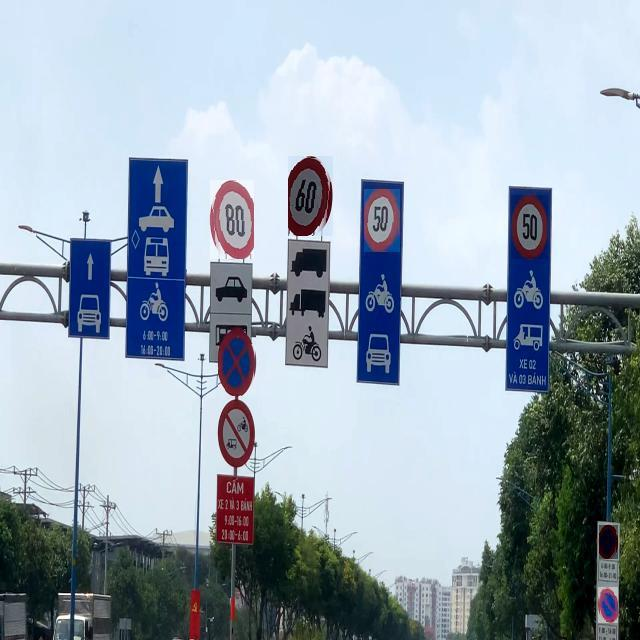P-127: (288, 156, 333, 236), (210, 180, 254, 259), (511, 195, 548, 259), (364, 189, 400, 252)
P-130: (219, 328, 257, 396), (599, 525, 618, 559)
P-131a: (598, 587, 618, 623)
